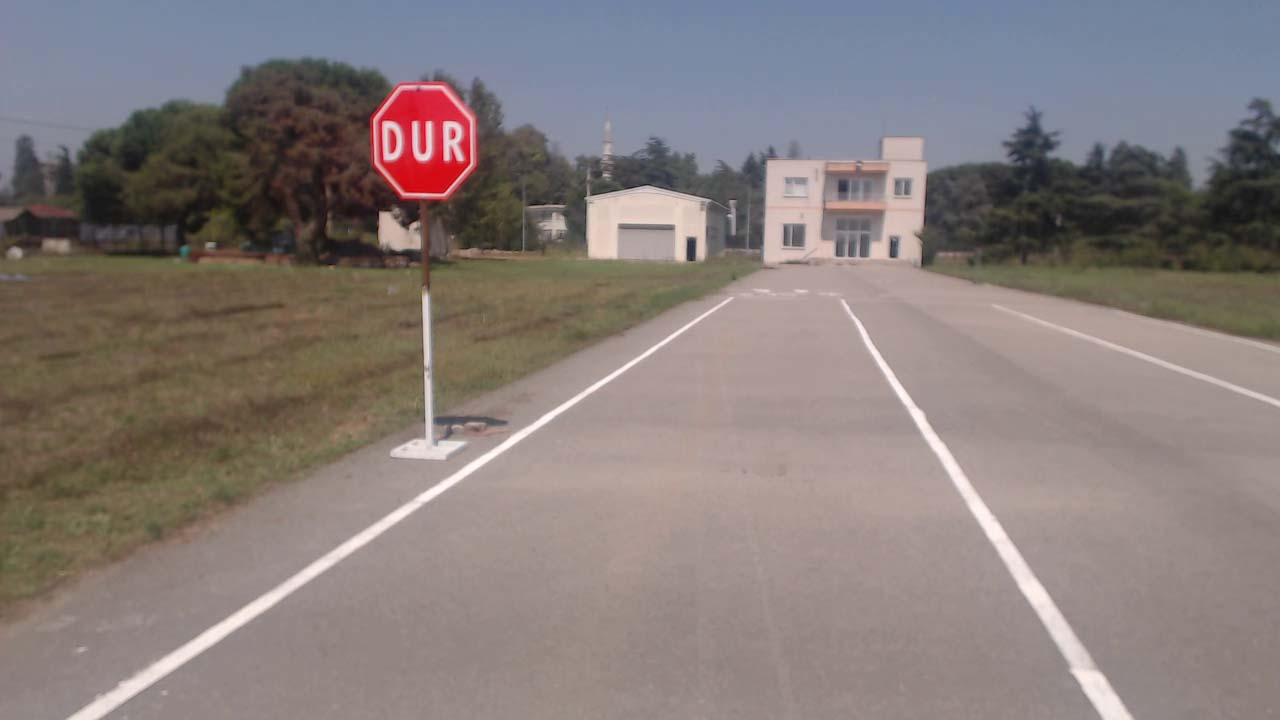arac_dur_isareti: (311, 66, 503, 478)
